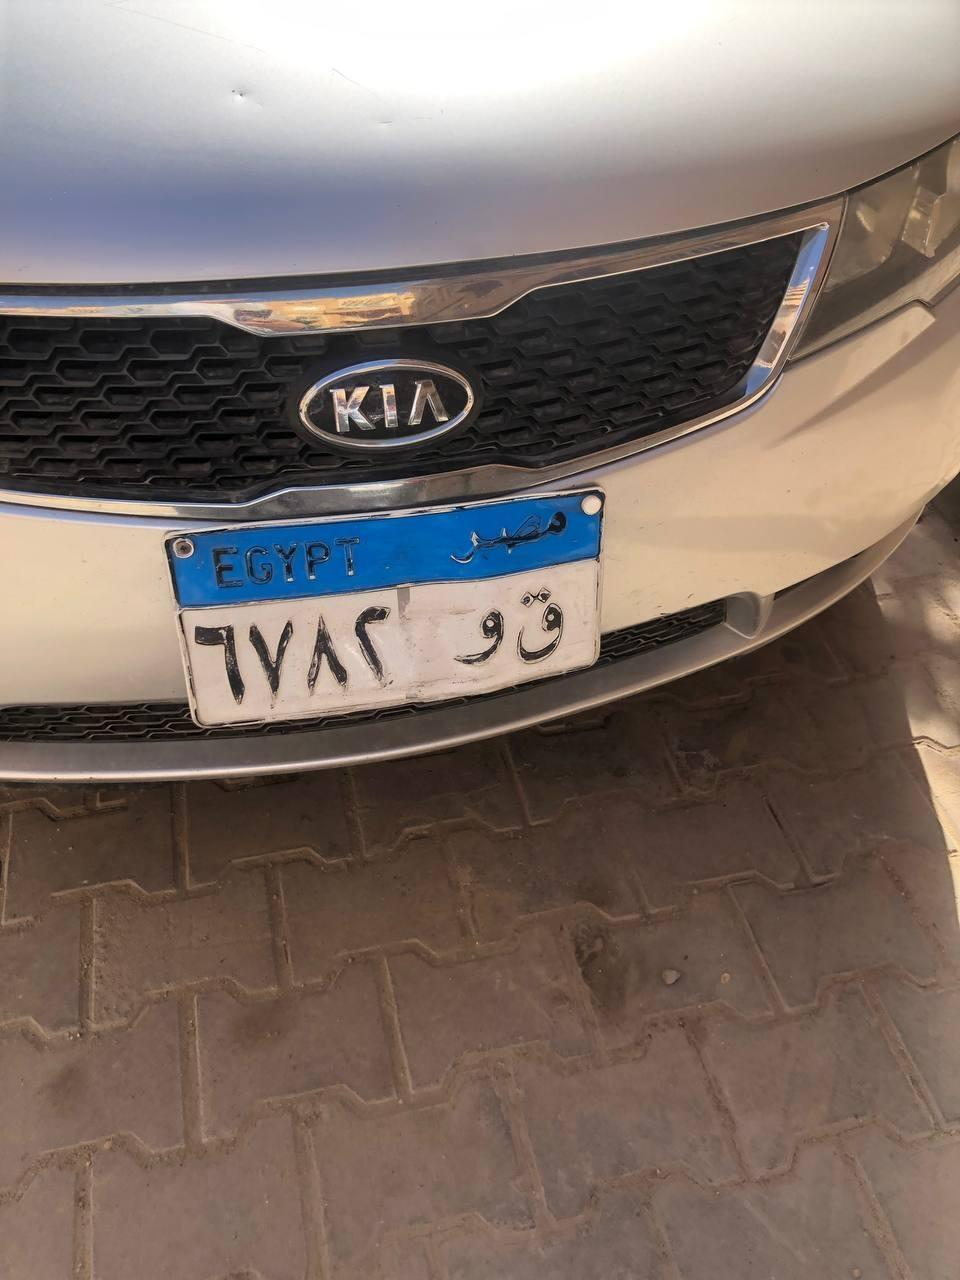2: (348, 602, 391, 684)
6: (188, 624, 246, 710)
7: (241, 608, 296, 701)
8: (300, 606, 350, 701)
License Plate: (155, 478, 612, 736)
Q: (512, 588, 569, 664)
Wow: (446, 608, 504, 668)
